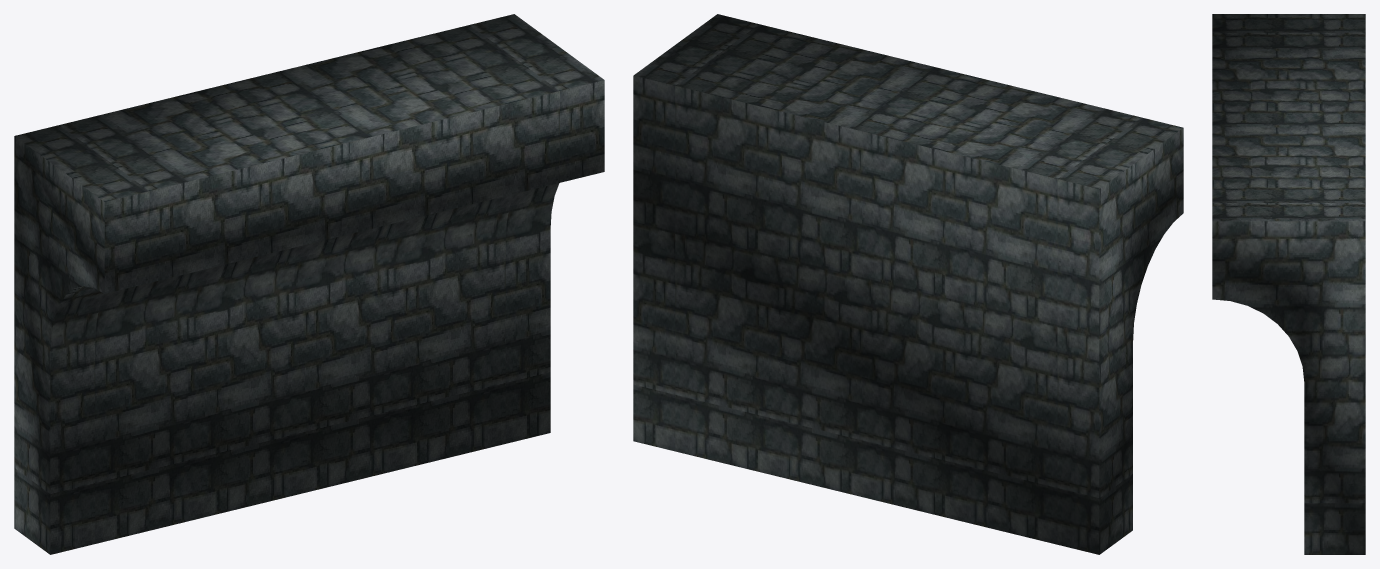
Rendered from dark stone wall curved.glb.
3 views of the same model, side by side, from view 1: azimuth 30°, elevation 25°; view 2: azimuth 150°, elevation 25°; view 3: azimuth 270°, elevation 25° (orthographic). The views are drawn at different scales.
Visible parts, largest first — view 1: Circular Doorway.011; view 2: Circular Doorway.011; view 3: Circular Doorway.011.
Boxes of the visible parts, x1,y1,x2,y2 form: Circular Doorway.011: [14, 14, 604, 554]; Circular Doorway.011: [633, 14, 1183, 554]; Circular Doorway.011: [1212, 14, 1365, 554].
Size of the model in its own units: 3.66 by 2.74 by 1.14.
Materials: 1 (1 with a texture image).
